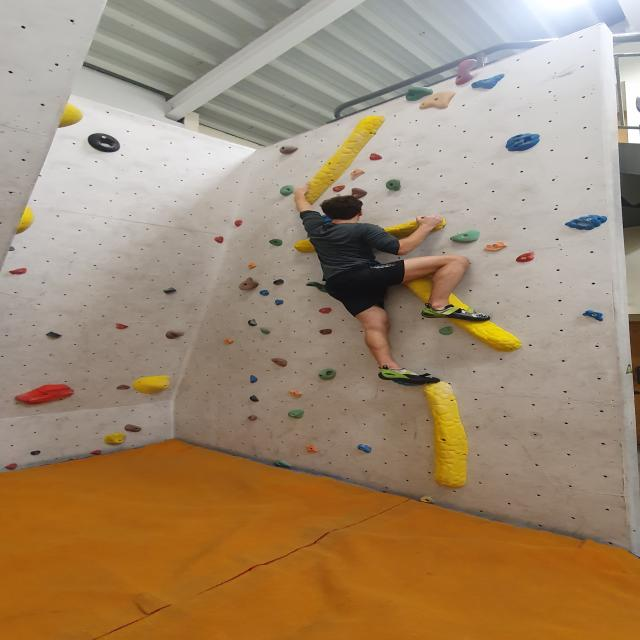Crimp: (11, 381, 85, 408), (415, 87, 461, 114), (466, 72, 507, 94), (578, 306, 614, 323), (477, 238, 510, 255), (508, 250, 545, 265), (348, 440, 380, 456), (281, 405, 310, 422), (282, 385, 311, 402), (120, 421, 150, 437), (82, 446, 114, 460), (207, 231, 233, 248), (314, 324, 340, 340), (239, 373, 270, 386), (7, 264, 34, 278), (23, 445, 49, 459), (110, 380, 136, 394), (343, 167, 370, 180), (299, 443, 328, 455), (0, 458, 26, 471), (267, 295, 291, 309), (110, 318, 133, 332), (314, 304, 337, 318), (268, 458, 296, 469), (217, 335, 241, 346), (362, 151, 386, 162), (254, 287, 277, 298), (326, 182, 348, 193), (243, 259, 260, 272), (229, 218, 249, 228)
Jug: (449, 57, 484, 88), (444, 227, 487, 248), (160, 327, 198, 345), (398, 86, 436, 102), (378, 176, 409, 194), (235, 274, 260, 293), (263, 356, 299, 369), (274, 144, 301, 155), (277, 182, 295, 197), (264, 238, 290, 248), (257, 324, 273, 338)
Pinch: (412, 492, 442, 507), (42, 326, 67, 344), (432, 323, 459, 338), (157, 284, 185, 297), (244, 393, 265, 404), (242, 412, 261, 423), (243, 316, 260, 328), (270, 278, 290, 288)
Pocket: (559, 208, 611, 232), (500, 130, 546, 153), (86, 131, 124, 154), (312, 366, 346, 384)
Sloper: (396, 266, 527, 354), (293, 112, 391, 206), (419, 380, 477, 490), (48, 101, 93, 131), (128, 375, 178, 394), (98, 433, 131, 447)
